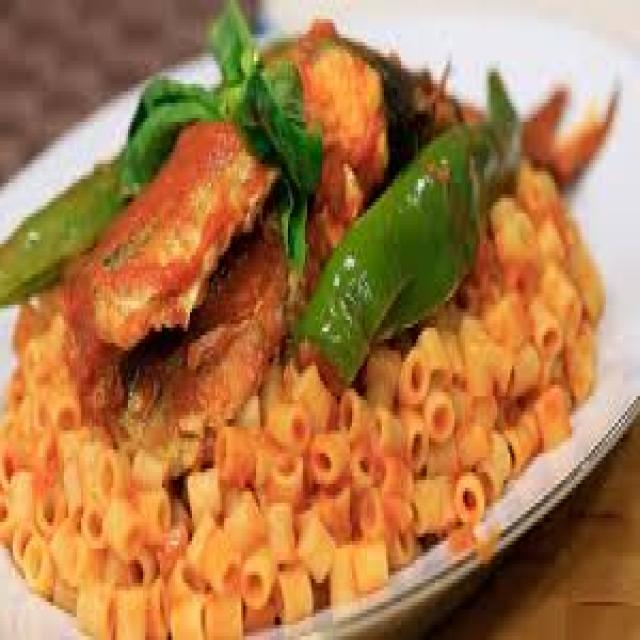Pasta: (8, 48, 565, 571)
